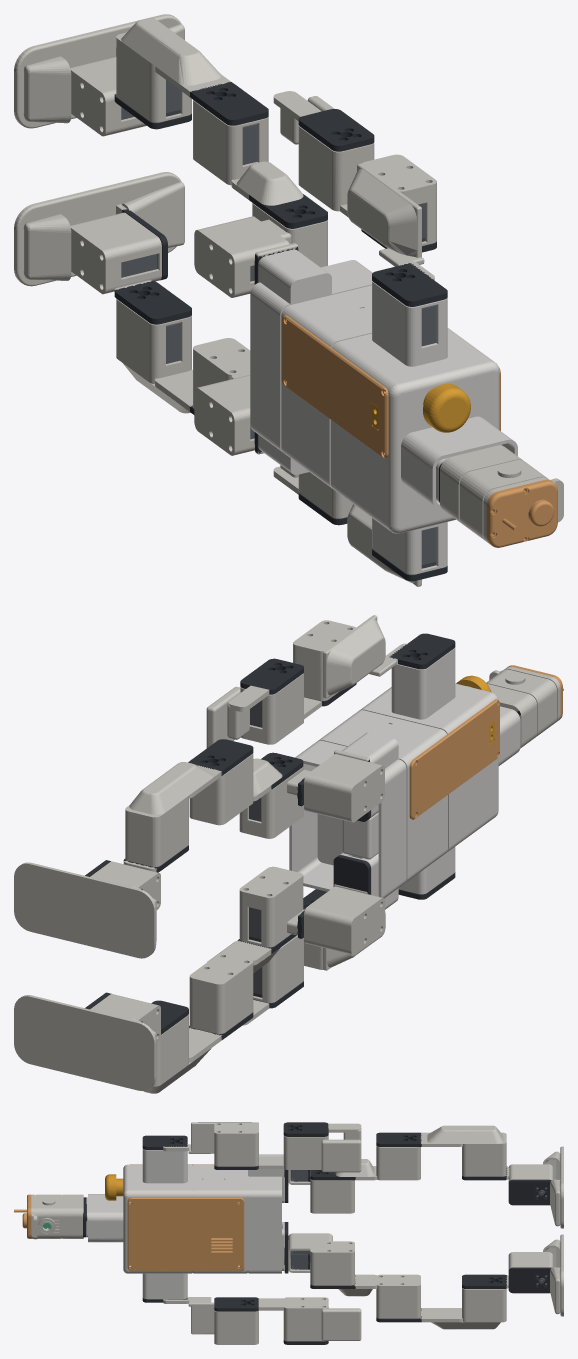
The model's file is robot.gltf.
The picture shows the model from 3 angles, top to bottom: view 1: azimuth 30°, elevation 25°; view 2: azimuth 150°, elevation 25°; view 3: azimuth 270°, elevation 25°; orthographic projection. The views are drawn at different scales.
Parts seen in each view (by area): view 1: part:torso, part:r_foot, part:l_upper_arm, part:l_shin, part:battery_door, part:r_ankle_link, part:l_thigh, part:l_foot, part:head, part:r_shin, part:l_hip_yaw_link, part:l_forearm (+10 smaller); view 2: part:torso, part:l_foot, part:r_foot, part:l_upper_arm, part:l_shin, part:r_hip_yaw_link, part:battery_door, part:r_thigh, part:l_hip_yaw_link, part:l_thigh, part:r_hip_roll_link, part:l_forearm (+8 smaller); view 3: part:torso, part:torso_front_cover, part:r_forearm, part:l_shin, part:l_upper_arm, part:l_forearm, part:r_shin, part:r_thigh, part:r_upper_arm, part:head, part:l_thigh, part:l_foot (+10 smaller).
Part boxes in pixels (x1,y1,x2,y2): part:torso: [250, 249, 517, 574]; part:r_foot: [14, 172, 184, 286]; part:l_upper_arm: [347, 154, 447, 306]; part:l_shin: [116, 18, 268, 125]; part:battery_door: [281, 315, 388, 458]; part:r_ankle_link: [70, 212, 191, 324]; part:l_thigh: [193, 100, 327, 228]; part:l_foot: [14, 14, 184, 128]; part:head: [438, 445, 563, 542]; part:r_shin: [116, 299, 194, 414]; part:l_hip_yaw_link: [194, 216, 298, 297]; part:l_forearm: [298, 96, 436, 252]; part:torso: [289, 647, 520, 909]; part:l_foot: [14, 860, 156, 958]; part:r_foot: [14, 992, 156, 1090]; part:l_upper_arm: [293, 615, 455, 700]; part:l_shin: [125, 739, 253, 866]; part:r_hip_yaw_link: [304, 855, 384, 954]; part:battery_door: [409, 699, 499, 819]; part:r_thigh: [189, 934, 296, 1033]; part:l_hip_yaw_link: [304, 750, 384, 822]; part:l_thigh: [189, 752, 303, 825]; part:r_hip_roll_link: [239, 866, 304, 947]; part:l_forearm: [206, 673, 356, 748]; part:torso: [87, 1148, 284, 1299]; part:torso_front_cover: [127, 1197, 244, 1271]; part:r_forearm: [214, 1297, 361, 1341]; part:l_shin: [376, 1125, 506, 1176]; part:l_upper_arm: [142, 1122, 258, 1166]; part:l_forearm: [214, 1135, 361, 1172]; part:r_shin: [376, 1288, 506, 1329]; part:r_thigh: [310, 1274, 420, 1318]; part:r_upper_arm: [142, 1297, 258, 1344]; part:head: [31, 1194, 86, 1239]; part:l_thigh: [310, 1146, 420, 1180]; part:l_foot: [508, 1146, 563, 1228].
Size of the model in its own units: 142 by 264 by 624.
